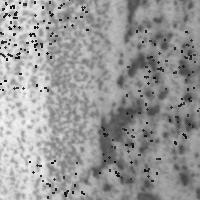pitted_surface: (3, 3, 112, 198), (101, 1, 199, 188), (92, 104, 141, 177), (99, 122, 159, 180), (136, 30, 194, 88), (126, 59, 185, 115), (0, 32, 55, 90), (0, 0, 51, 56), (29, 160, 86, 200), (0, 1, 34, 57), (169, 87, 200, 143), (34, 0, 86, 29)
